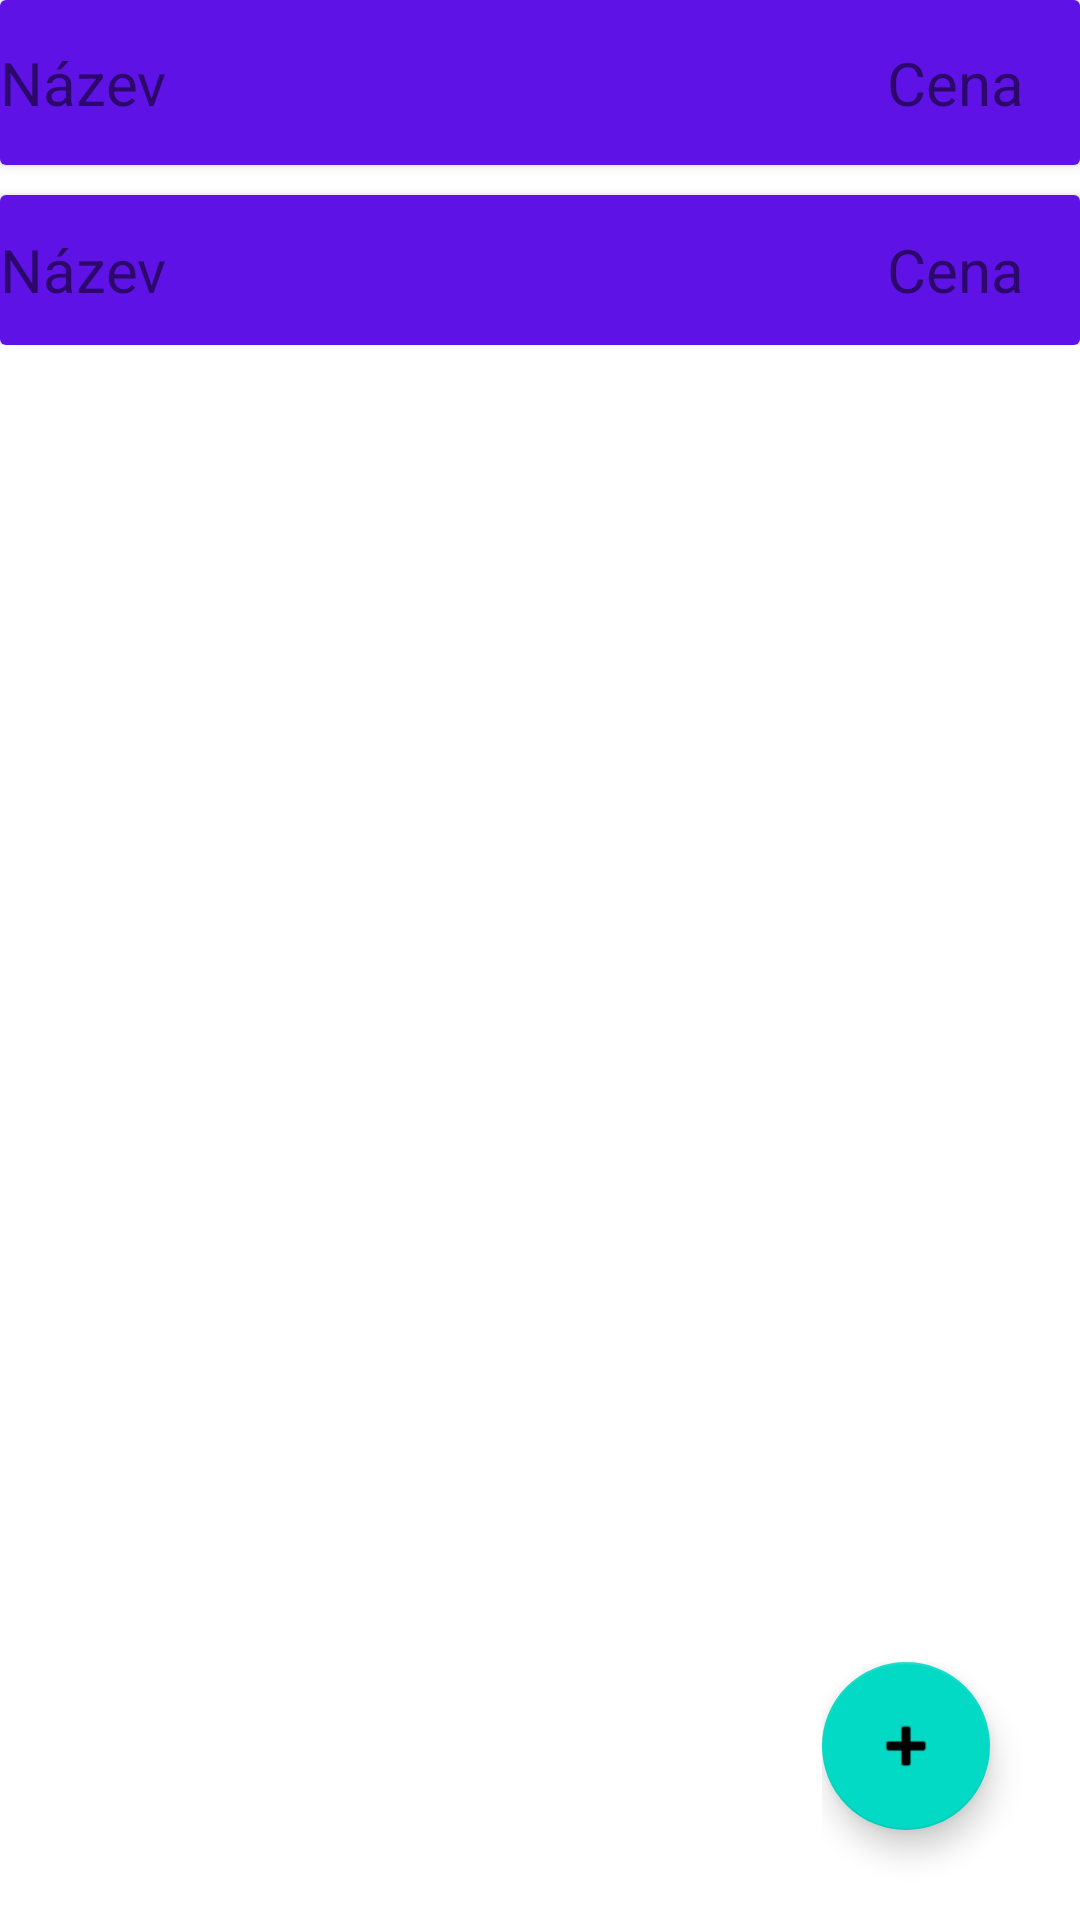

Point at icon controls on the screen. Image size 1080w x 1920h, points as (x,y).
Pčidej akci: (906,1746)
